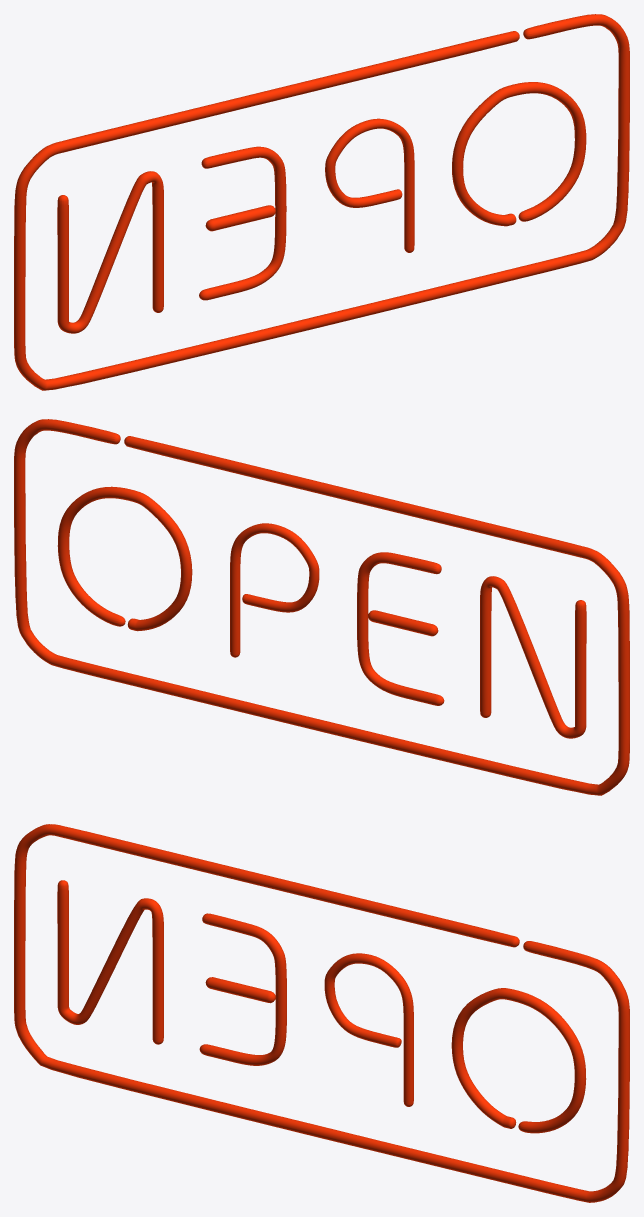
The model's file is neon.gltf.
3 views of the same model, one above another, from view 1: azimuth 30°, elevation 25°; view 2: azimuth 150°, elevation 25°; view 3: azimuth 330°, elevation 25° (orthographic).
Visible parts, largest first — view 1: Object_2, Object_3, Object_6, Object_5, Object_4; view 2: Object_2, Object_3, Object_6, Object_5, Object_4; view 3: Object_2, Object_3, Object_6, Object_5, Object_4.
Part boxes in pixels (bbox=[...]): Object_2: bbox=[14, 14, 629, 390]; Object_3: bbox=[57, 171, 163, 333]; Object_6: bbox=[452, 82, 586, 226]; Object_5: bbox=[325, 118, 414, 252]; Object_4: bbox=[199, 146, 286, 300]; Object_2: bbox=[14, 419, 629, 795]; Object_3: bbox=[480, 576, 586, 738]; Object_6: bbox=[57, 486, 192, 631]; Object_5: bbox=[230, 523, 319, 657]; Object_4: bbox=[357, 552, 444, 705]; Object_2: bbox=[14, 824, 629, 1202]; Object_3: bbox=[57, 880, 163, 1044]; Object_6: bbox=[451, 988, 586, 1133]; Object_5: bbox=[324, 953, 413, 1106]; Object_4: bbox=[199, 913, 286, 1065].
Size of the model in its own units: 770 by 297 by 13.38.
